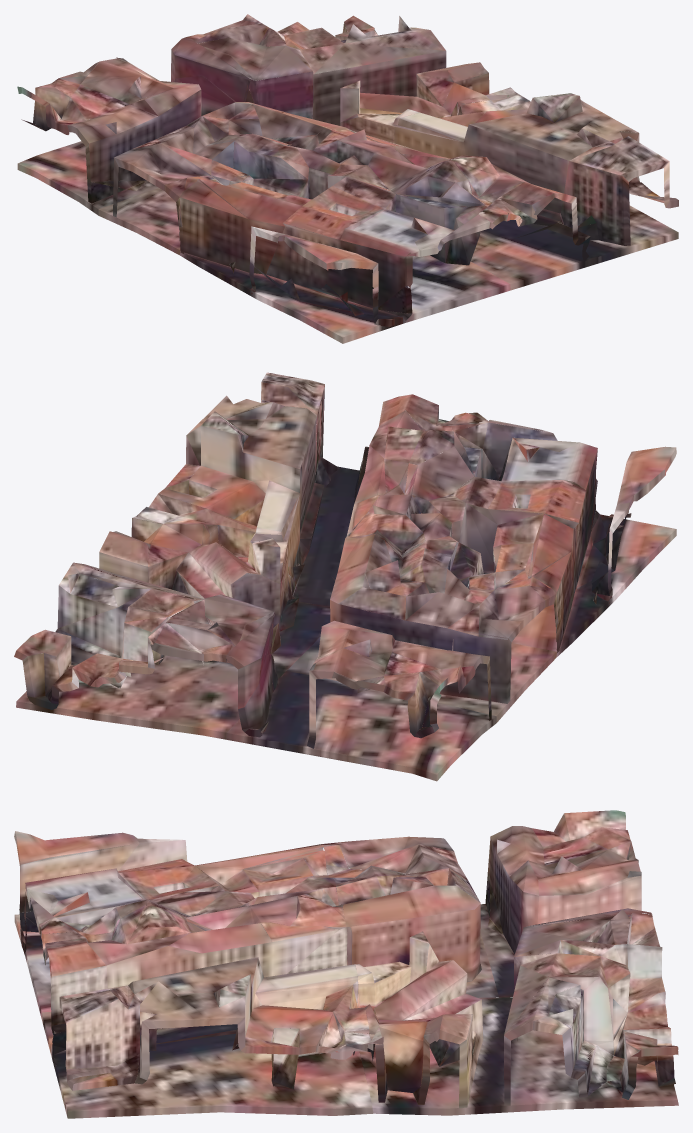
3 renders of one model, top to bottom at view 1: azimuth 30°, elevation 25°; view 2: azimuth 150°, elevation 25°; view 3: azimuth 270°, elevation 25°, orthographic. The views are drawn at different scales.
Visible parts, largest first — view 1: Mesh_0; view 2: Mesh_0; view 3: Mesh_0.
Boxes of the visible parts, x1,y1,x2,y2 form: Mesh_0: [17, 14, 678, 343]; Mesh_0: [14, 372, 676, 781]; Mesh_0: [14, 810, 678, 1118].
Bounding box in the file's own units: 134 × 35.42 × 165.
2 materials, 2 textured.
